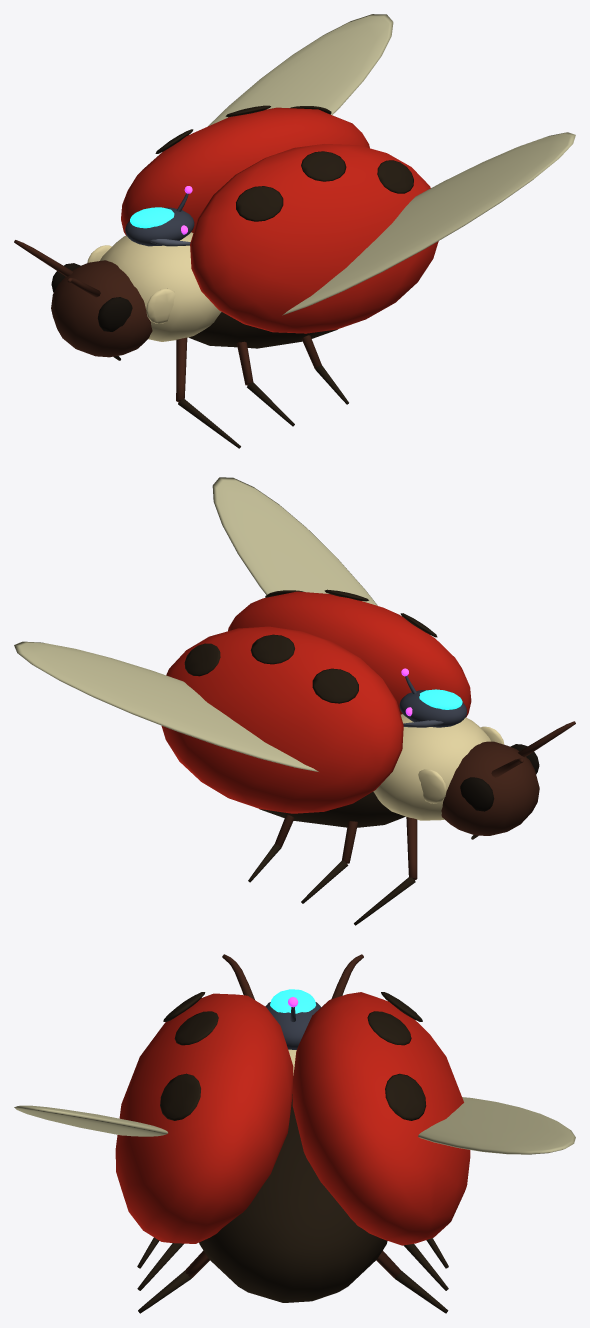
The model's file is controlled_flying_ladybird_lite.glb.
The picture shows the model from 3 angles, top to bottom: view 1: azimuth 30°, elevation 25°; view 2: azimuth 150°, elevation 25°; view 3: azimuth 270°, elevation 25°; orthographic projection. The views are drawn at different scales.
Visible parts, largest first — view 1: NaturalFaunaLiteMesh, AlienControlDeviceLiteMesh; view 2: NaturalFaunaLiteMesh, AlienControlDeviceLiteMesh; view 3: NaturalFaunaLiteMesh, AlienControlDeviceLiteMesh.
Boxes of the visible parts, x1,y1,x2,y2 form: NaturalFaunaLiteMesh: (14,14,575,448); AlienControlDeviceLiteMesh: (125,186,194,246); NaturalFaunaLiteMesh: (14,477,575,925); AlienControlDeviceLiteMesh: (399,668,466,727); NaturalFaunaLiteMesh: (14,954,575,1313); AlienControlDeviceLiteMesh: (265,989,321,1049).
Bounding box in the file's own units: 1.33 × 0.7647 × 1.13.
